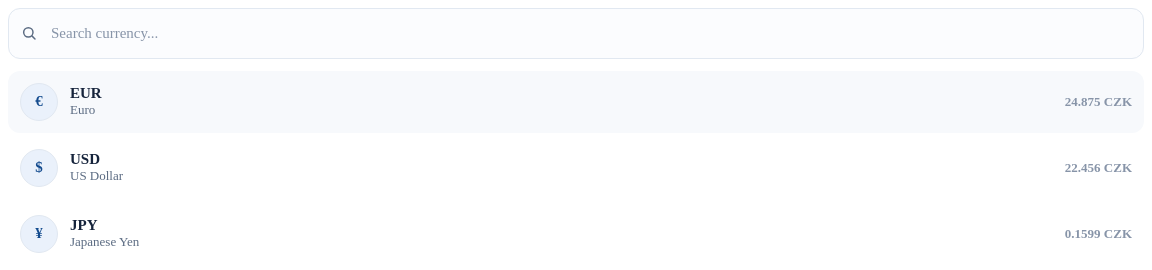
RatesList › filters the list by code
The image size is (1152, 270).
In the field with placeholder "Search currency...": point(590, 33) [49,21,1131,46], type "eur"
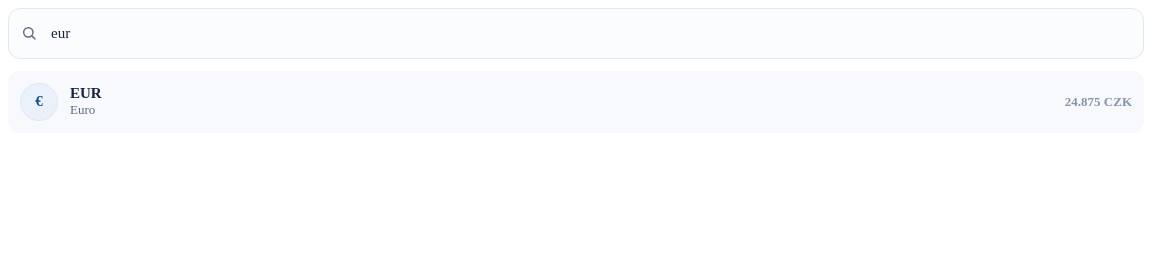
Expected: the list item "€ EUR Euro 24.875 CZK" is shown, [8,70,1144,132]
Now the list item "US Dollar" is gone
Now the list item "Japanese Yen" is gone
